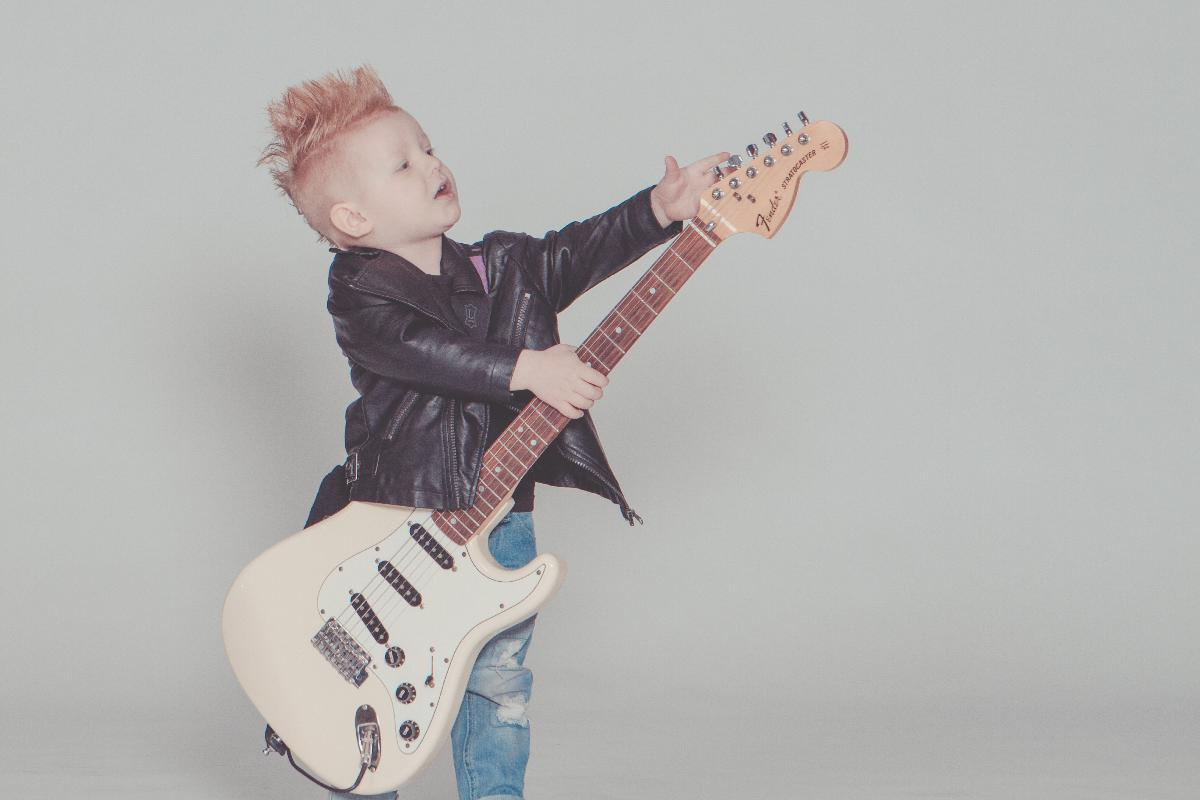Person: (254, 71, 718, 465)
